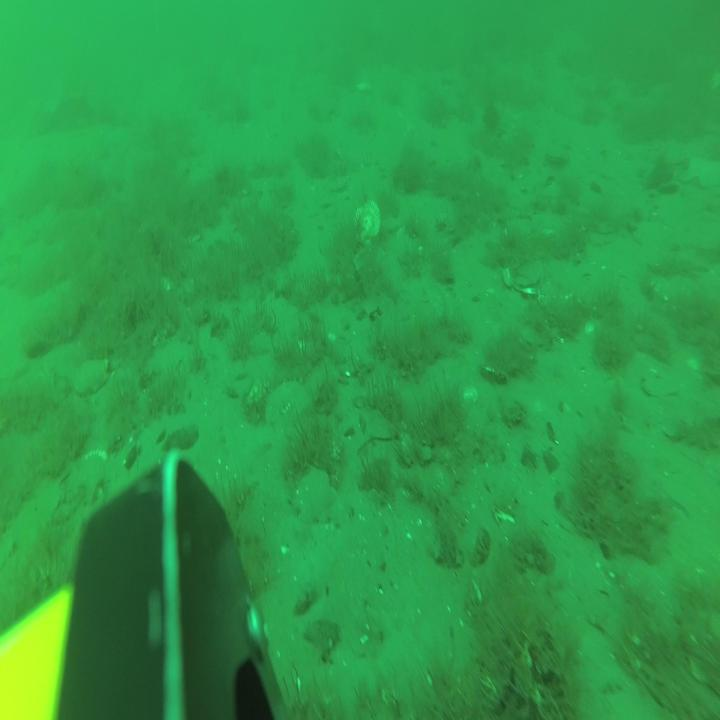scallop: (292, 466, 337, 523), (501, 258, 541, 296), (74, 360, 112, 395), (354, 200, 380, 246)
